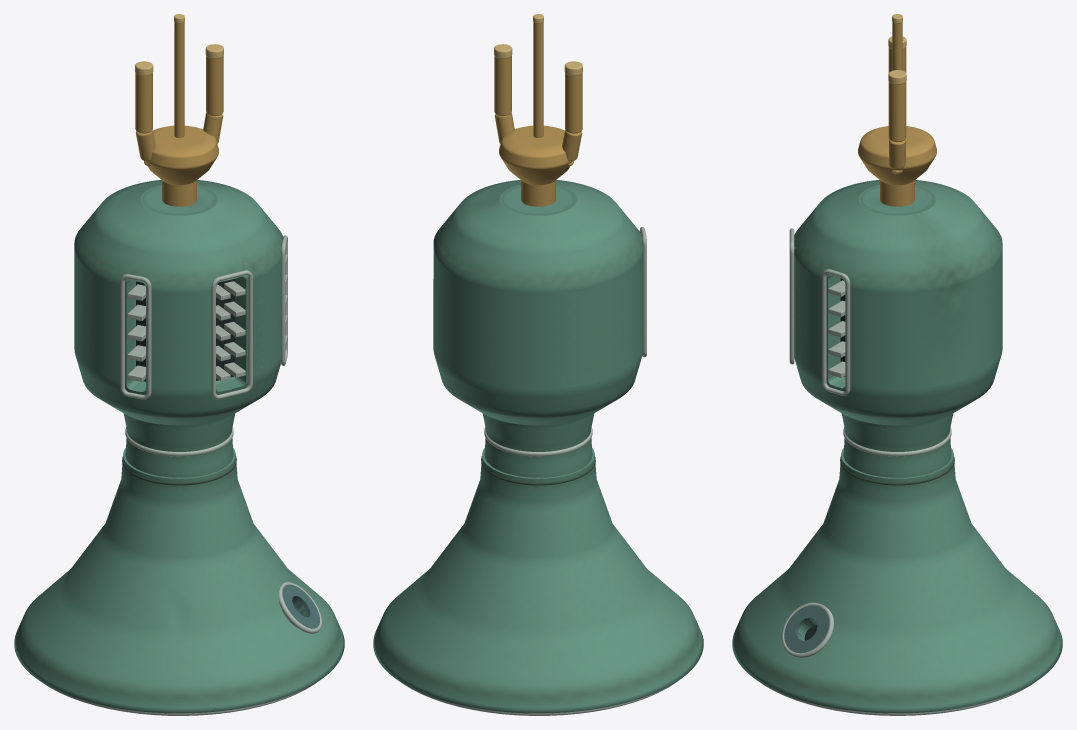
3 renders of one model, left to right at view 1: azimuth 30°, elevation 25°; view 2: azimuth 150°, elevation 25°; view 3: azimuth 270°, elevation 25°, orthographic.
Parts seen in each view (by area): view 1: RI05 flared mounting pedestal, RI05 rounded vented head, RI05 narrow structural neck, RI05 crown flared fork bowl, RI05 vent 1 continuous retaining frame, RI05 vent 0 continuous retaining frame, RI05 crown central conductor, RI05 crown outer conductor.002, RI05 crown outer conductor.005, RI05 pedestal circular inspection face, RI05 vent 2 continuous retaining frame, RI05 crown solid mounting stem (+4 smaller); view 2: RI05 flared mounting pedestal, RI05 rounded vented head, RI05 narrow structural neck, RI05 crown flared fork bowl, RI05 crown central conductor, RI05 crown outer conductor.002, RI05 crown outer conductor.005, RI05 crown solid mounting stem, RI05 ground contact rim, RI05 neck machined collar, RI05 vent 0 continuous retaining frame; view 3: RI05 flared mounting pedestal, RI05 rounded vented head, RI05 narrow structural neck, RI05 crown flared fork bowl, RI05 vent 2 continuous retaining frame, RI05 pedestal circular inspection face, RI05 crown outer conductor.005, RI05 vent 1 continuous retaining frame, RI05 crown solid mounting stem, RI05 ground contact rim, RI05 pedestal worn retaining ring, RI05 neck machined collar (+1 smaller).
Part boxes in pixels (x1,y1,x2,y2): RI05 flared mounting pedestal: (14,448,344,713); RI05 rounded vented head: (74,180,283,425); RI05 narrow structural neck: (123,413,235,477); RI05 crown flared fork bowl: (145,125,218,185); RI05 vent 1 continuous retaining frame: (211,270,252,399); RI05 vent 0 continuous retaining frame: (120,274,151,399); RI05 crown central conductor: (174,22,184,137); RI05 crown outer conductor.002: (135,73,152,133); RI05 crown outer conductor.005: (206,56,223,116); RI05 pedestal circular inspection face: (282,584,319,628); RI05 vent 2 continuous retaining frame: (280,235,287,365); RI05 crown solid mounting stem: (162,180,196,206); RI05 flared mounting pedestal: (373,448,703,713); RI05 rounded vented head: (433,180,643,425); RI05 narrow structural neck: (482,413,594,477); RI05 crown flared fork bowl: (499,125,572,185); RI05 crown central conductor: (533,22,543,137); RI05 crown outer conductor.002: (565,73,582,133); RI05 crown outer conductor.005: (494,56,511,116); RI05 crown solid mounting stem: (521,180,555,206); RI05 ground contact rim: (401,682,675,715); RI05 neck machined collar: (484,427,592,456); RI05 vent 0 continuous retaining frame: (639,226,646,357); RI05 flared mounting pedestal: (732,448,1062,713); RI05 rounded vented head: (794,180,1002,425); RI05 narrow structural neck: (841,413,953,477); RI05 crown flared fork bowl: (858,126,936,185); RI05 vent 2 continuous retaining frame: (822,269,850,395); RI05 pedestal circular inspection face: (784,605,828,653); RI05 crown outer conductor.005: (888,82,906,142); RI05 vent 1 continuous retaining frame: (789,228,794,364); RI05 crown solid mounting stem: (880,180,914,206); RI05 ground contact rim: (761,683,1033,715); RI05 pedestal worn retaining ring: (781,602,833,657); RI05 neck machined collar: (843,427,951,456).
Bounding box in the file's own units: 1.7 × 3.64 × 1.7.
8 materials, 2 textured.
